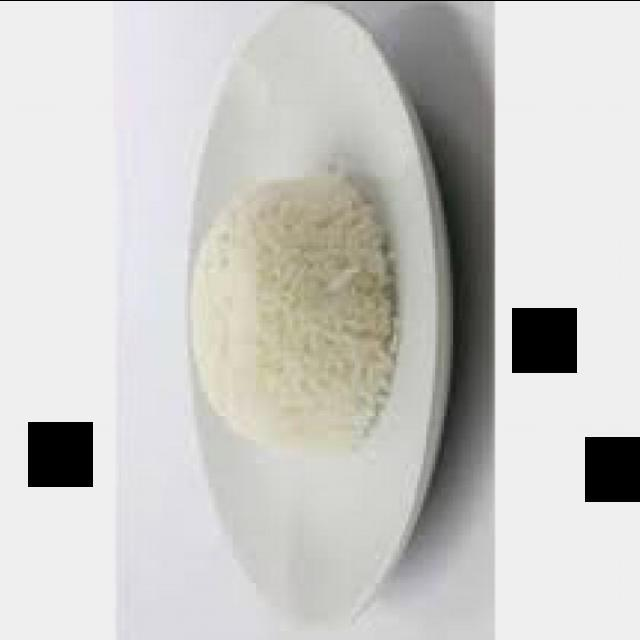rice: (190, 174, 400, 458)
